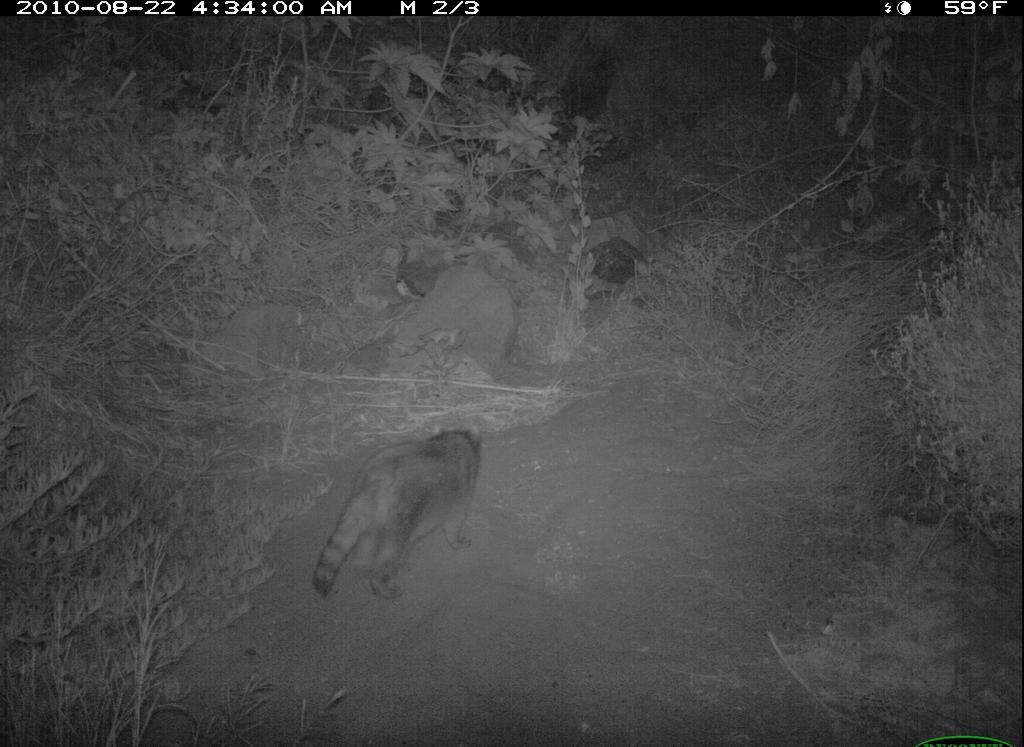raccoon: (313, 423, 495, 616)
